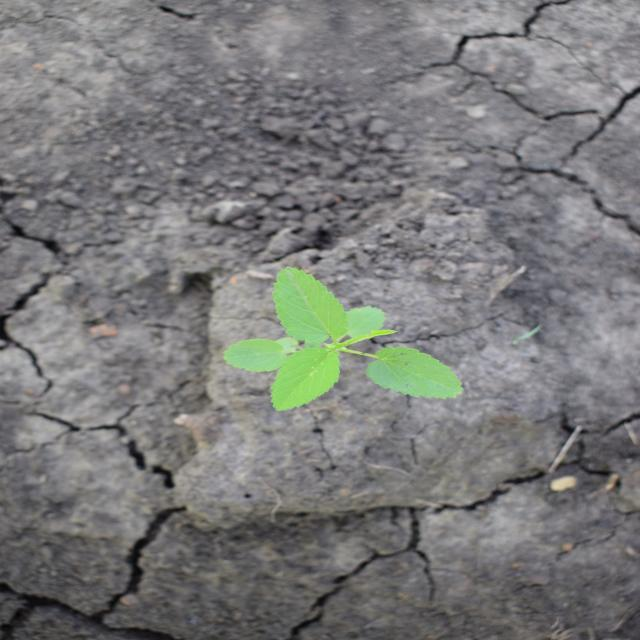PricklySida: (220, 265, 466, 412)
